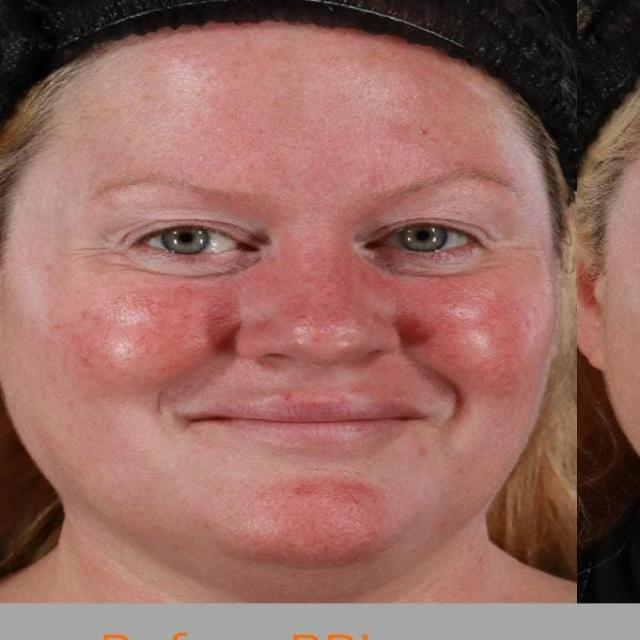Rosacea: (81, 261, 545, 372), (253, 482, 389, 564)
